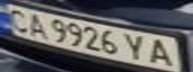2: (81, 24, 103, 53)
6: (100, 27, 121, 56)
9: (45, 16, 69, 44), (63, 20, 84, 47)
A: (145, 37, 178, 69), (21, 11, 51, 38)
C: (0, 6, 33, 33)
Y: (121, 32, 151, 62)
